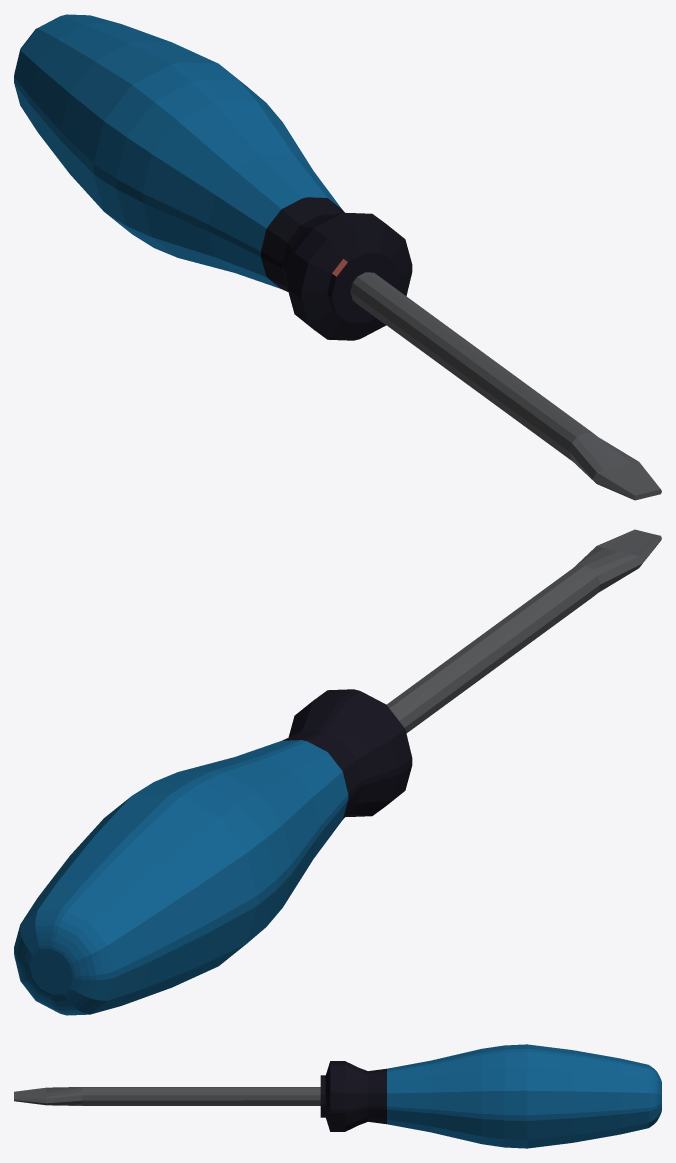
The model's file is ScrewDriver.fbx.
3 views of the same model, one above another, from view 1: azimuth 30°, elevation 25°; view 2: azimuth 150°, elevation 25°; view 3: azimuth 270°, elevation 25° (orthographic). The views are drawn at different scales.
Visible parts, largest first — view 1: Cube; view 2: Cube; view 3: Cube.
Boxes of the visible parts, left/top/right/bottom form: Cube: left=14, top=14, right=661, bottom=500; Cube: left=14, top=529, right=661, bottom=1015; Cube: left=14, top=1044, right=661, bottom=1148.
Size of the model in its own units: 133 by 133 by 839.
